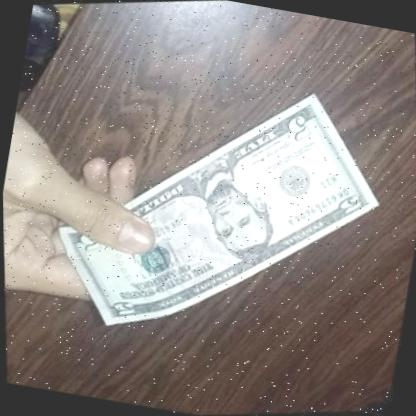five-front: (6, 30, 416, 385)
